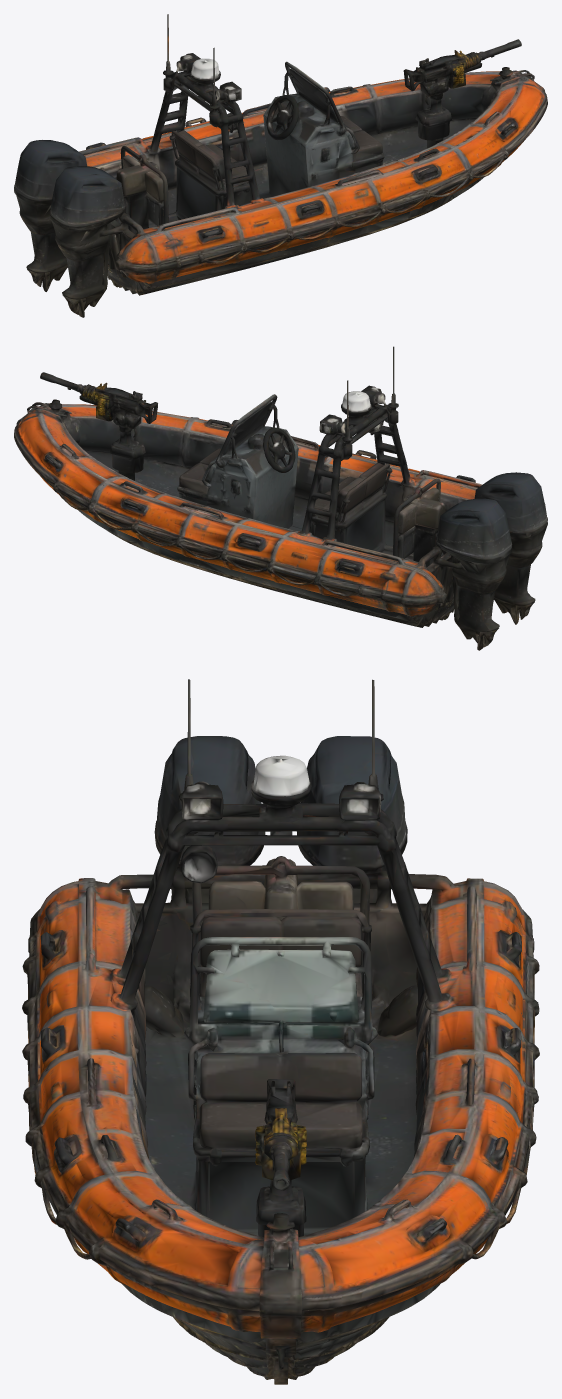
Rendered from boat_rhib.glb.
3 renders of one model, top to bottom at view 1: azimuth 30°, elevation 25°; view 2: azimuth 150°, elevation 25°; view 3: azimuth 270°, elevation 25°, orthographic. The views are drawn at different scales.
Visible parts, largest first — view 1: node_0; view 2: node_0; view 3: node_0.
Boxes of the visible parts, bbox=[...] form: node_0: bbox=[14, 14, 547, 317]; node_0: bbox=[14, 346, 547, 650]; node_0: bbox=[22, 679, 539, 1384].
Bounding box in the file's own units: 1.15 × 0.5245 × 0.5129.
1 material, 1 textured.
